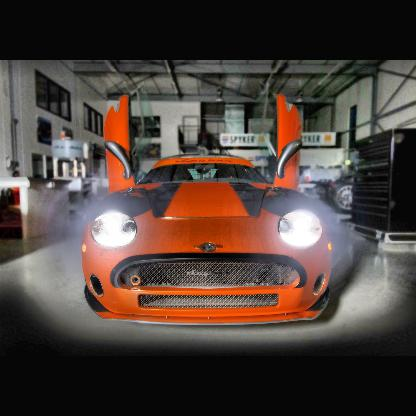Spyker C8 Convertible 2009: (77, 92, 340, 329)
